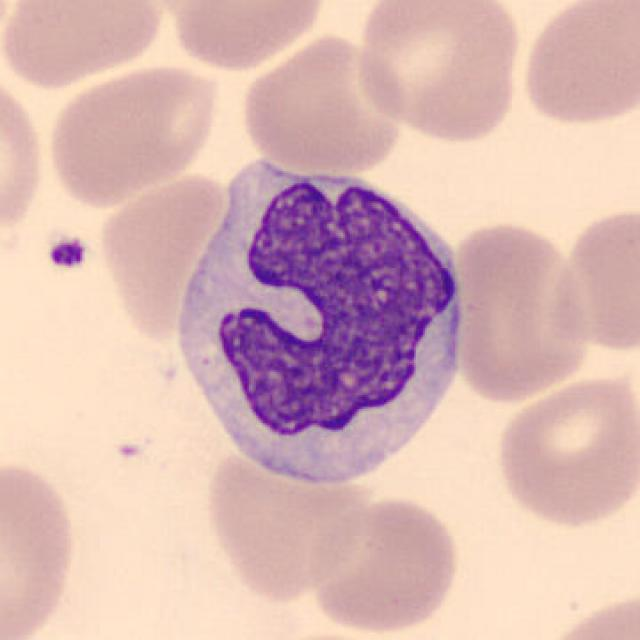Monocyte: (164, 145, 478, 502)
Platelets: (42, 231, 90, 275)
RBC: (444, 217, 594, 407), (199, 444, 375, 605), (41, 60, 222, 208), (350, 0, 526, 145), (237, 30, 407, 176), (94, 164, 231, 344), (491, 368, 638, 532), (304, 490, 464, 637), (518, 0, 638, 132), (0, 453, 84, 640), (0, 0, 169, 92), (544, 199, 640, 360), (156, 0, 332, 74), (0, 67, 50, 249), (535, 587, 638, 640), (247, 627, 410, 640)
